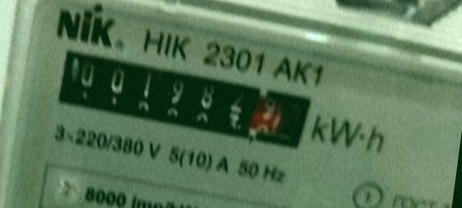0: (104, 62, 125, 93), (75, 55, 94, 86)
1: (136, 66, 151, 96)
2: (225, 81, 246, 112)
8: (195, 78, 214, 108)
9: (255, 91, 278, 121), (164, 73, 183, 104)
screen: (35, 31, 326, 163)
